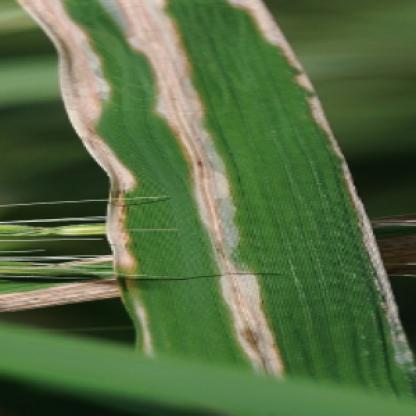Blight: (95, 1, 294, 375), (223, 1, 416, 375), (16, 2, 162, 355)
